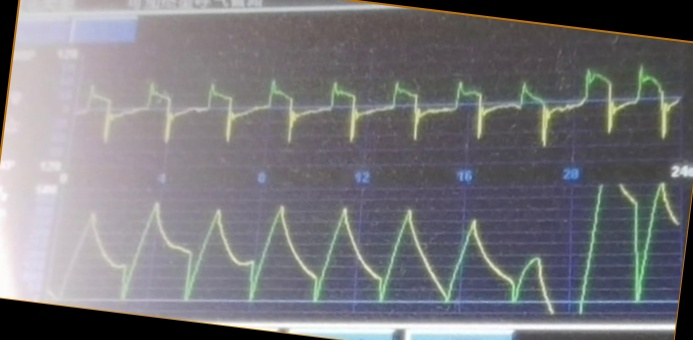Flow: (82, 58, 681, 156)
Leakage Volume: (57, 190, 569, 317)
